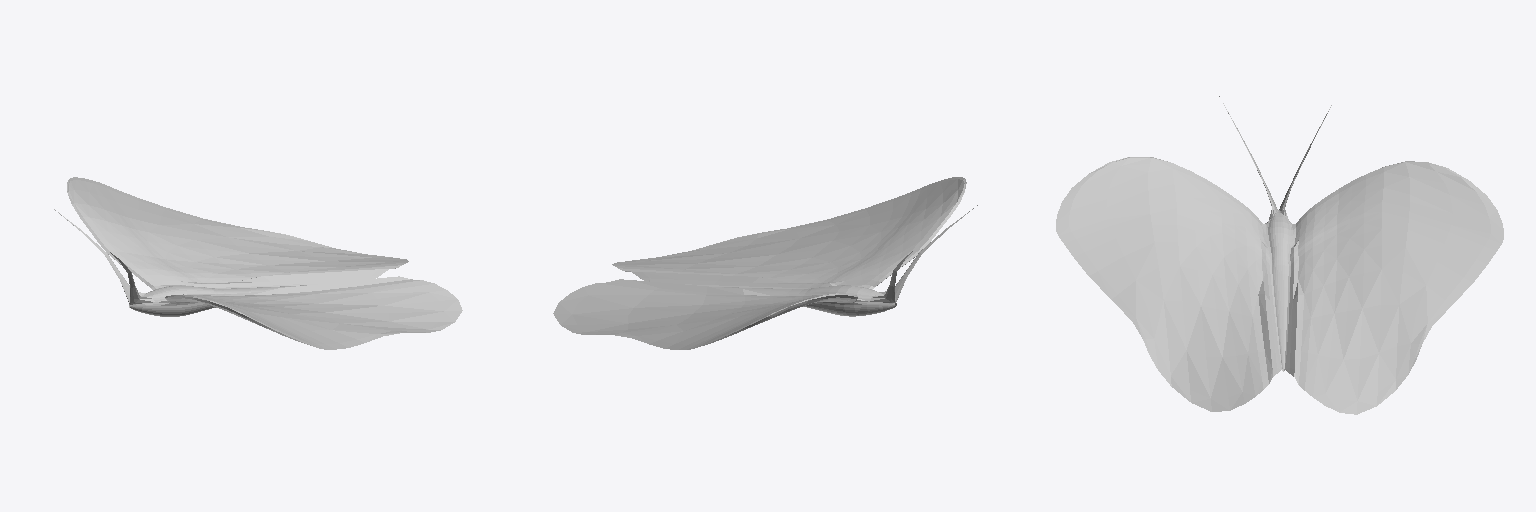
The model's file is butterfly.obj.
The picture shows the model from 3 angles: view 1: azimuth 30°, elevation 25°; view 2: azimuth 150°, elevation 25°; view 3: azimuth 270°, elevation 25°; orthographic projection.
Parts seen in each view (by area): view 1: Cylinder10; view 2: Cylinder10; view 3: Cylinder10.
Part boxes in pixels (bbox=[...]): Cylinder10: bbox=[54, 177, 462, 349]; Cylinder10: bbox=[553, 177, 977, 349]; Cylinder10: bbox=[1056, 96, 1503, 414].
Size of the model in its own units: 26.1 by 10.09 by 28.18.